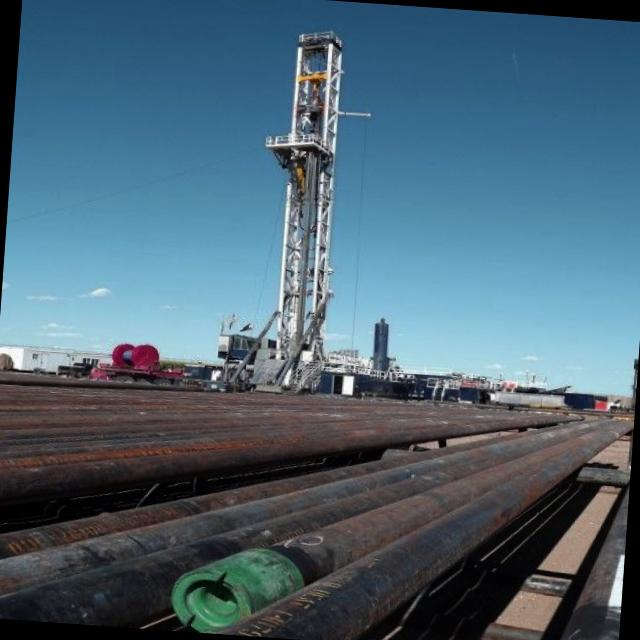gas: (0, 420, 610, 627), (218, 422, 633, 640), (0, 384, 562, 505)
